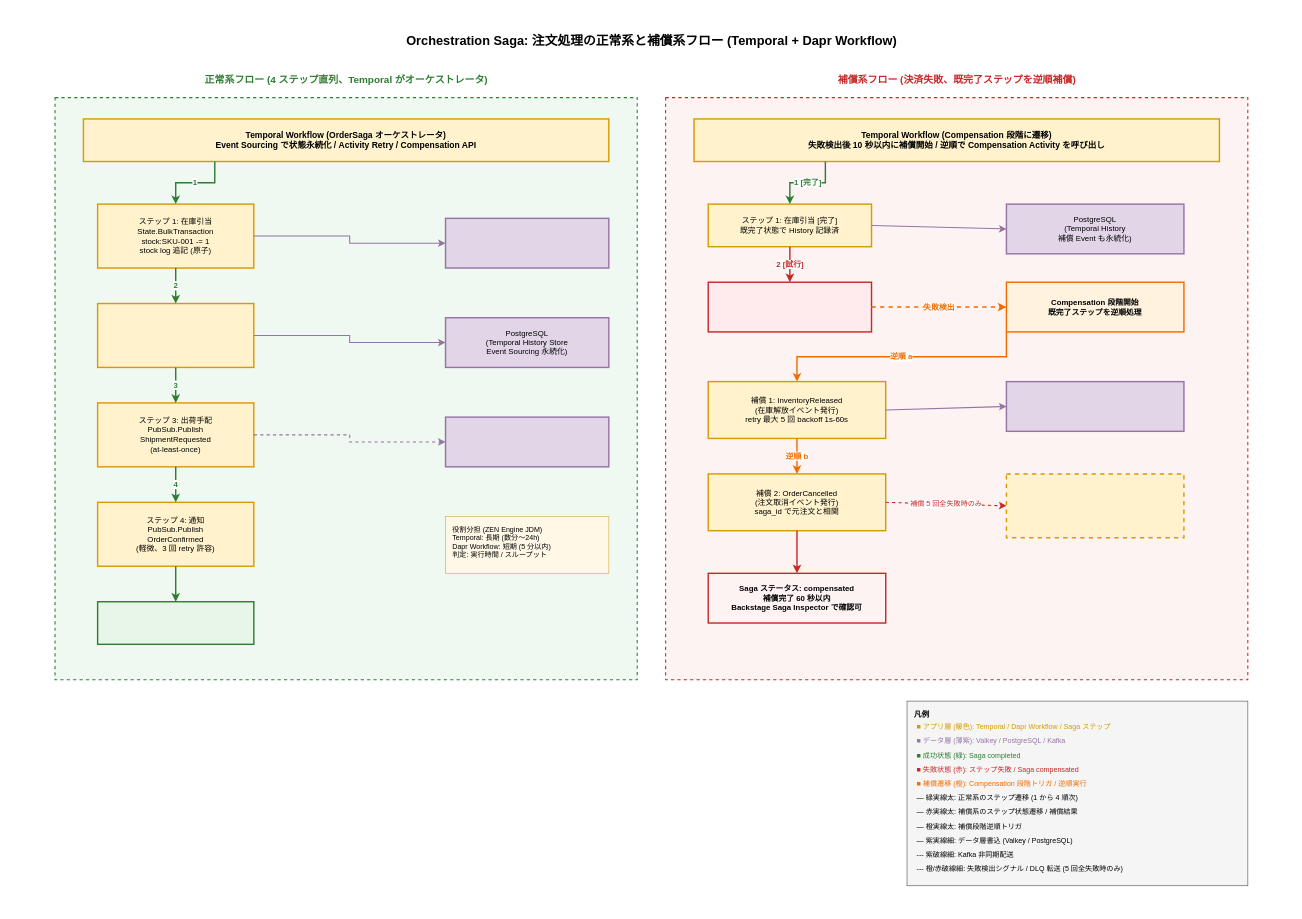
This 1302x919 diagram has some shape labels left out. Each missing label, with the centre of its shape:
"DLQ + Saga Inspector 補償 5 回全失敗時のみ停留 人的介入 escalation (Slack / PagerDuty 1 分以内)" belongs at (1094,505).
"Kafka (ShipmentRequested OrderConfirmed topic)" belongs at (526,441).
"Saga ステータス: completed 全ステップ正常 30 秒以内 (p95)" belongs at (175,623).
"Valkey (Dapr Workflow state 短期 Saga の fallback)" belongs at (526,242).
"Valkey (冪等キー 24h TTL 補償イベント重複排除)" belongs at (1094,406).
"ステップ 2: 決済 [失敗] 5 回 retry 全失敗 503 Service Unavailable" belongs at (789,306).
"ステップ 2: 決済 Binding.Invoke 外部決済ゲートウェイ (timeout 10s, retry 5)" belongs at (175,335).
